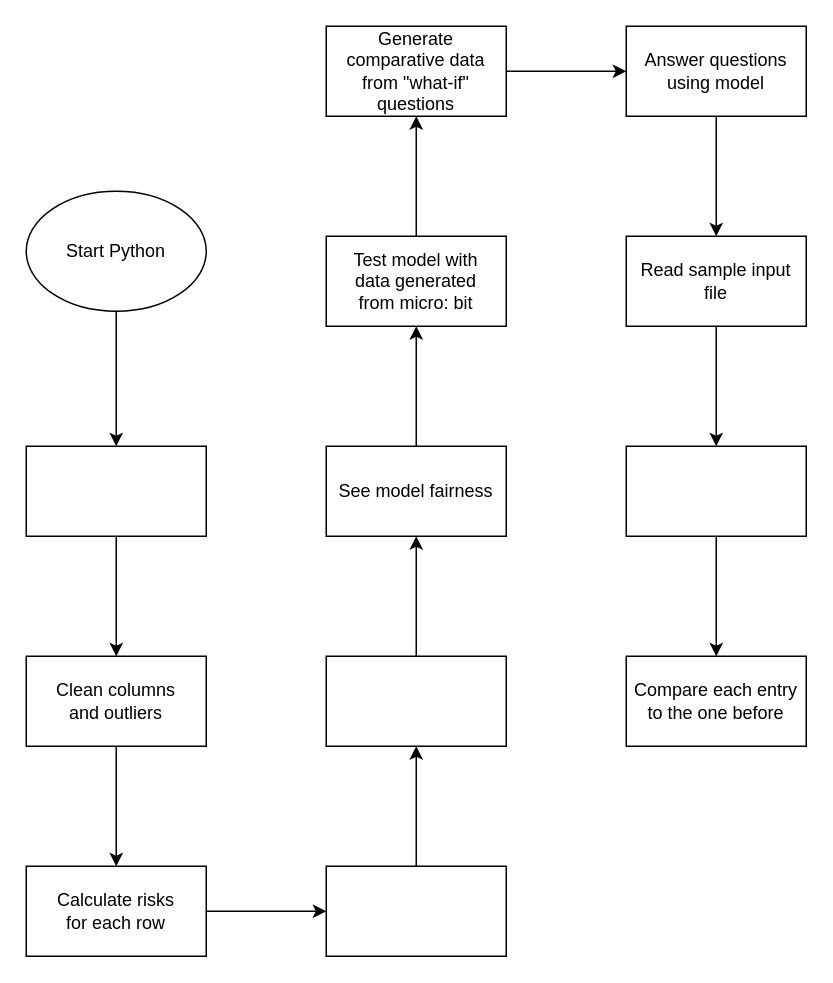
Some shapes in this 833 by 983 pixel diagram are drawn without their labels. The centre of each missing label's shape, as x and y in pixels:
"Calculate risk scores for each entry" goes at pixel 715 490.
"Check correlations between factors and risk" goes at pixel 415 910.
"Conclude basic scoring rules" goes at pixel 415 700.
"Open .csv dataset from internet" goes at pixel 115 490.
